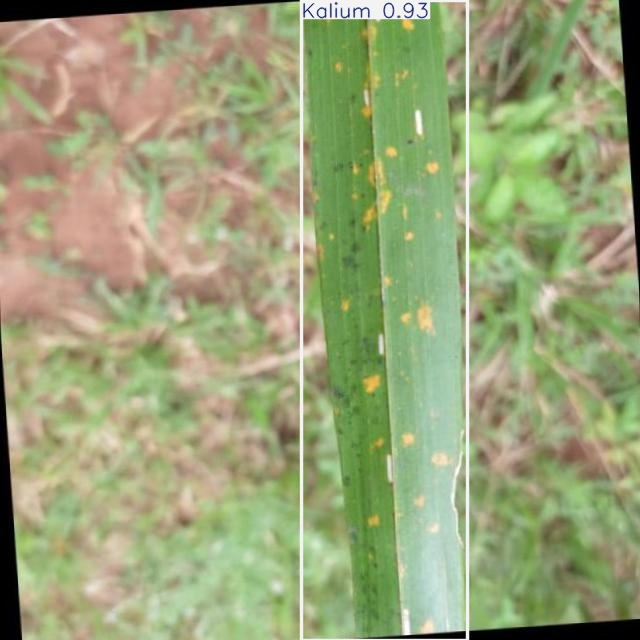Kalium: (301, 0, 468, 640)
